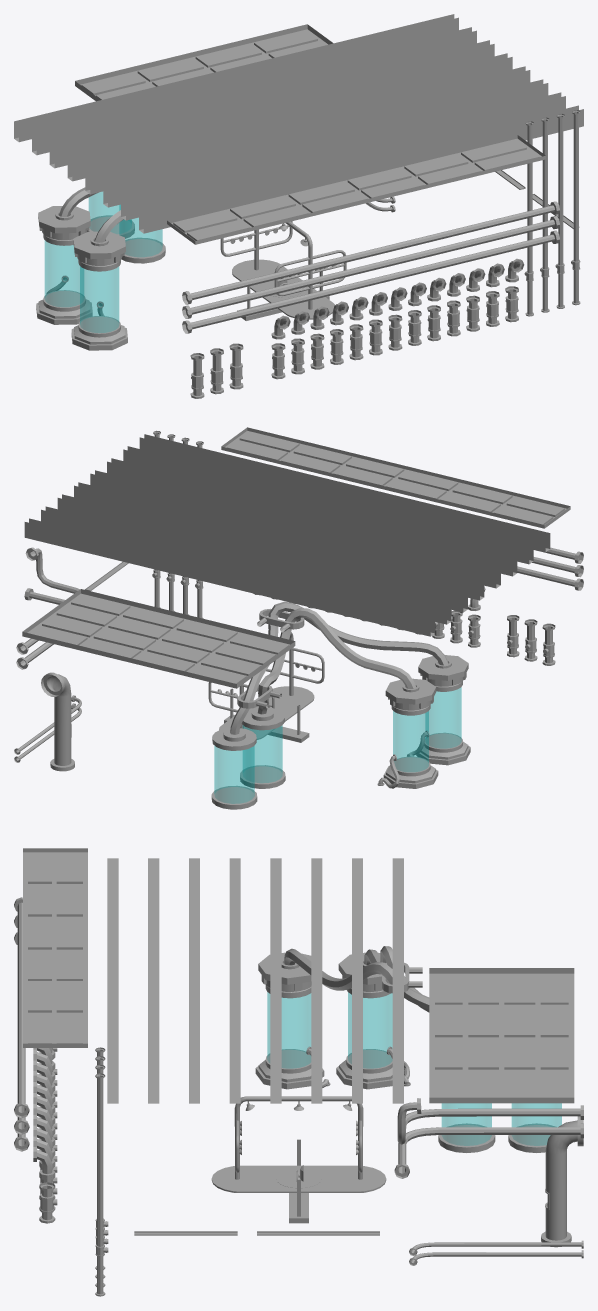
The model's file is Tuberias.fbx.
3 renders of one model, top to bottom at view 1: azimuth 30°, elevation 25°; view 2: azimuth 150°, elevation 25°; view 3: azimuth 270°, elevation 25°, orthographic. The views are drawn at different scales.
Visible parts, largest first — view 1: Tuberias, ZonaDescontaminacion; view 2: Tuberias, ZonaDescontaminacion, FocoTecho; view 3: Tuberias, ZonaDescontaminacion, FocoTecho, PlacaActivadorDescontaminacion.
Boxes of the visible parts, x1=… form: Tuberias: x1=14, y1=14, x2=583, y2=398; ZonaDescontaminacion: x1=220, y1=221, x2=346, y2=319; Tuberias: x1=14, y1=427, x2=583, y2=809; ZonaDescontaminacion: x1=208, y1=632, x2=324, y2=739; FocoTecho: x1=224, y1=688, x2=309, y2=742; Tuberias: x1=14, y1=848, x2=583, y2=1296; ZonaDescontaminacion: x1=211, y1=1096, x2=386, y2=1192; FocoTecho: x1=289, y1=1139, x2=308, y2=1223; PlacaActivadorDescontaminacion: x1=276, y1=1168, x2=321, y2=1188.
Bounding box in the file's own units: 1448 × 648 × 1398.
